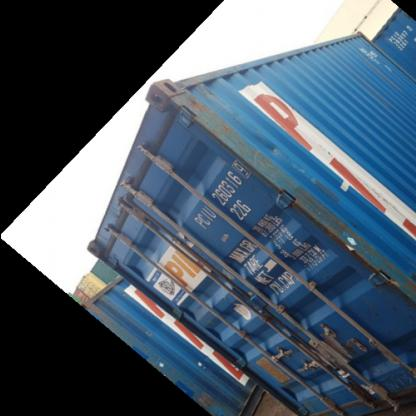Damage: (155, 74, 221, 148), (220, 120, 284, 196), (342, 226, 410, 290), (276, 177, 346, 239)
